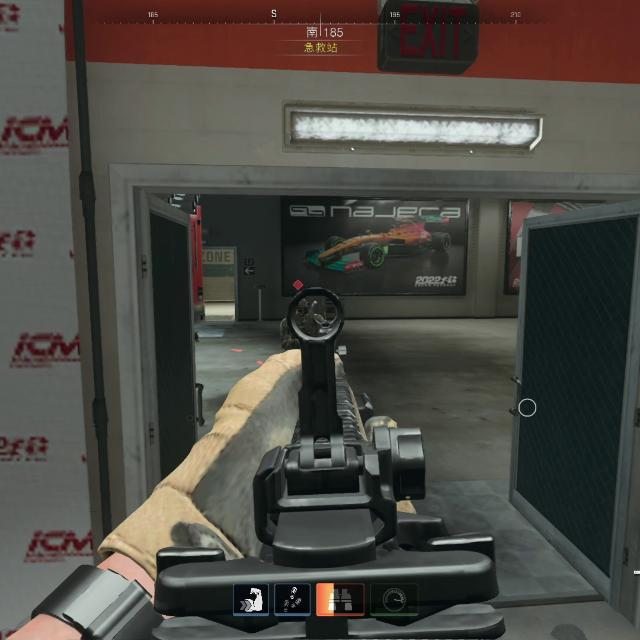MW2_body: (280, 279, 323, 348)
